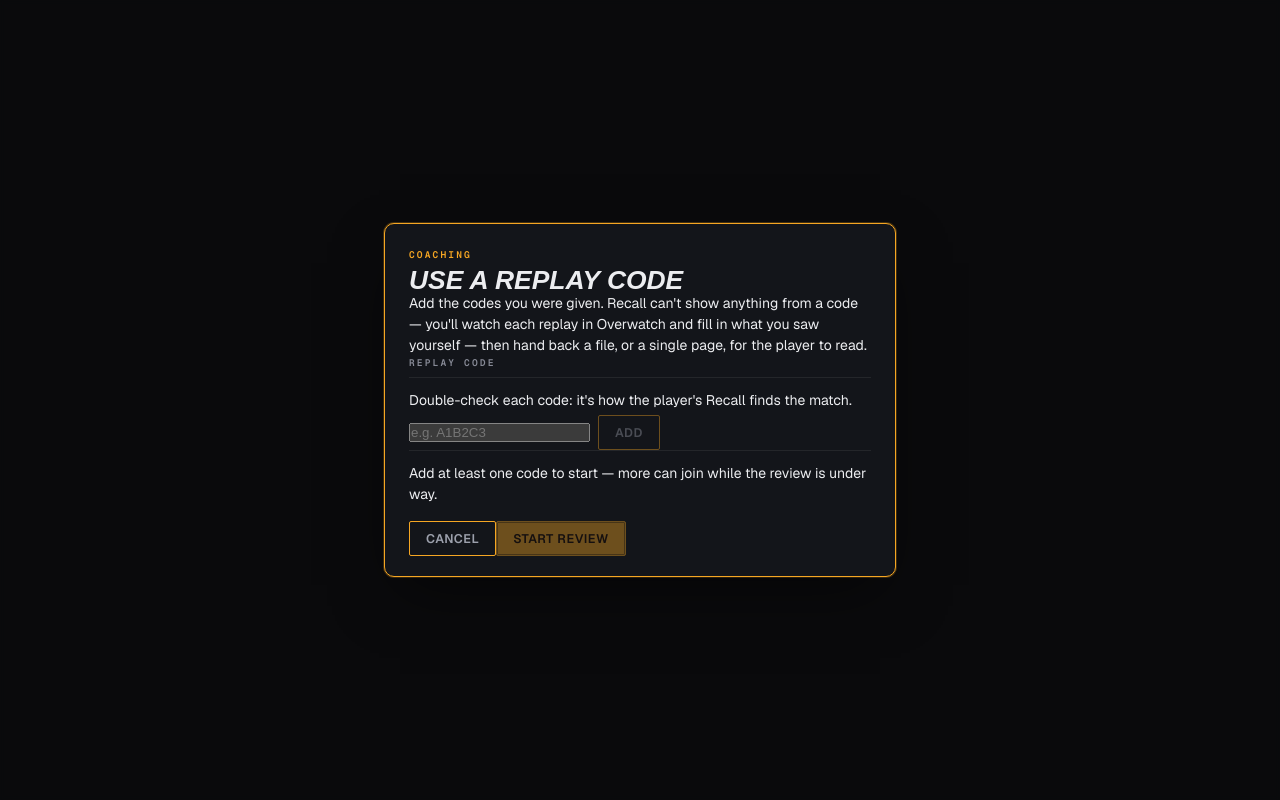
Test case: CoachFromCodesModal › lets a code be taken back off the list
This screenshot has width=1280, height=800.
Type "A1B2C3" into the field labelled "Replay code" at (500, 432), box [409,423,590,442]
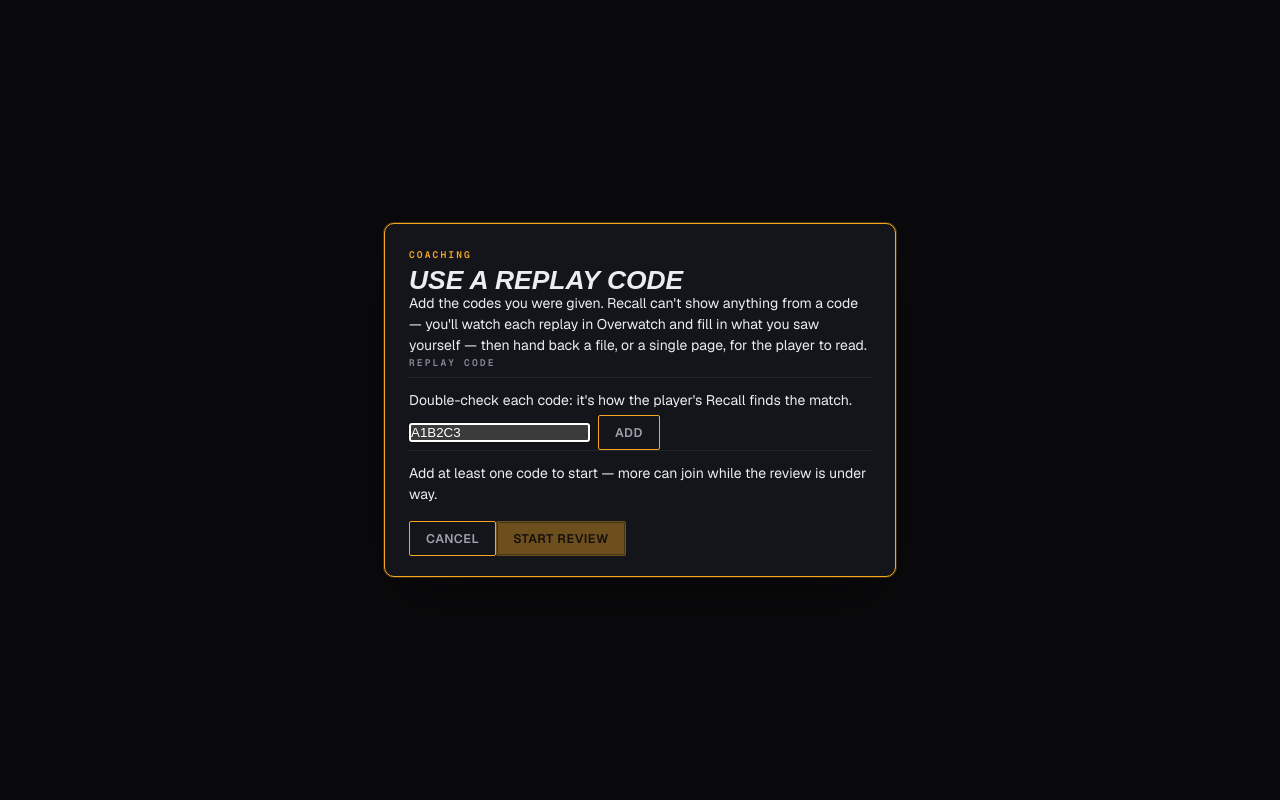
Click the button "Add" at (629, 432), box [598,415,660,450]
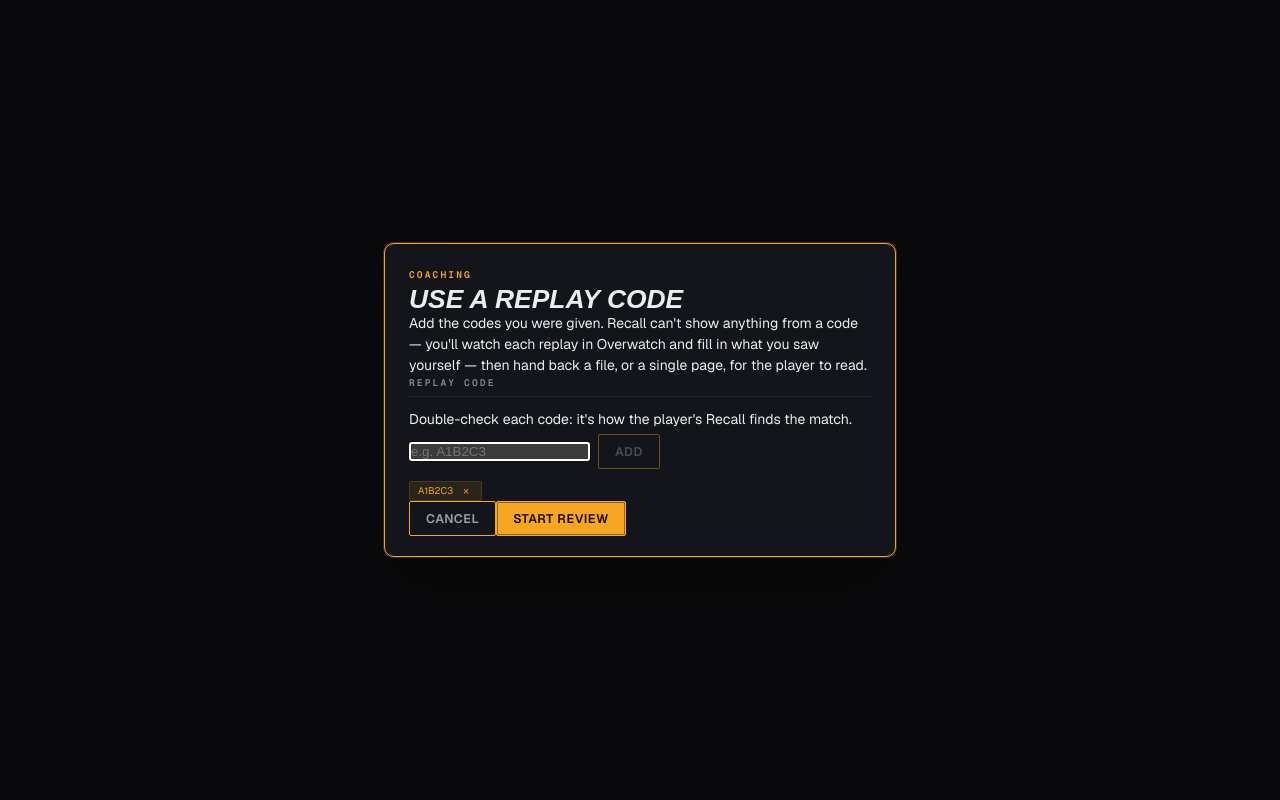
Click the button named "Remove A1B2C3" at (466, 491), box [455,482,477,500]
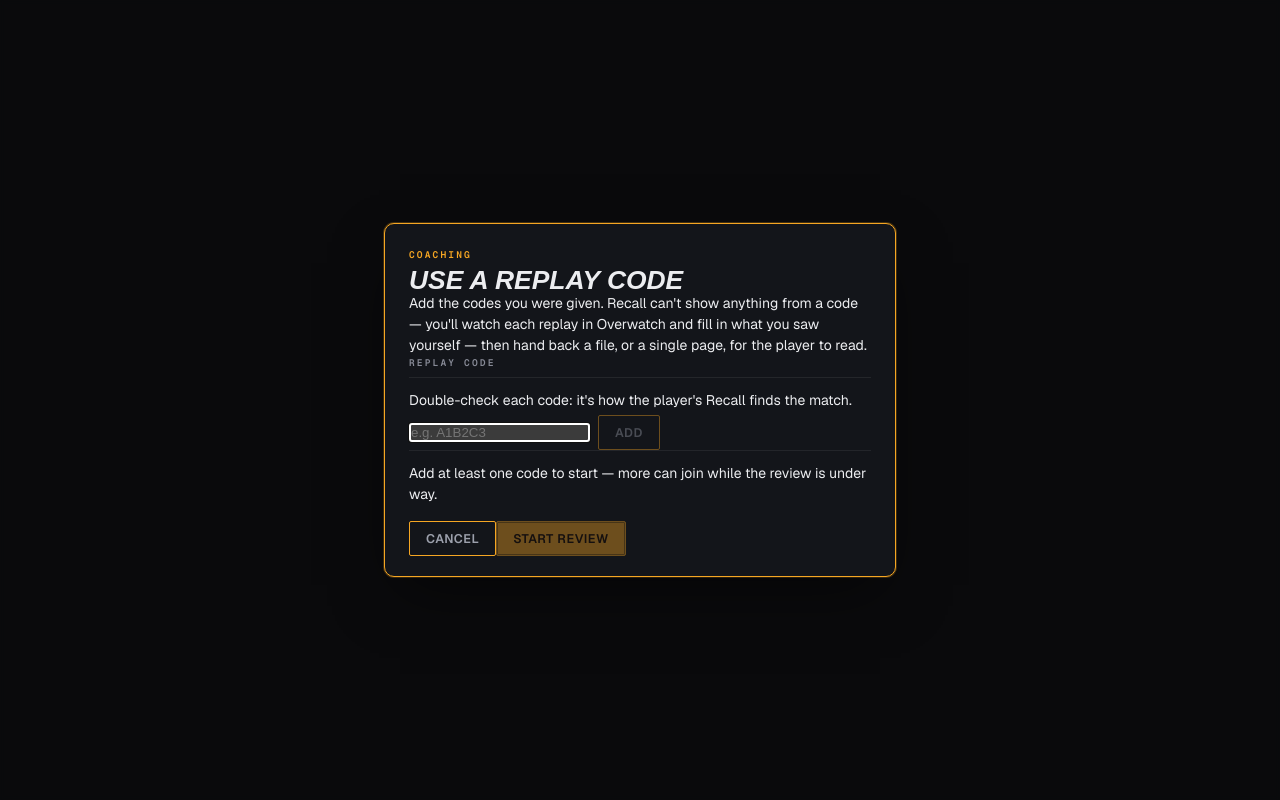
Now the button "Start review" is disabled, box [496,521,626,556]
